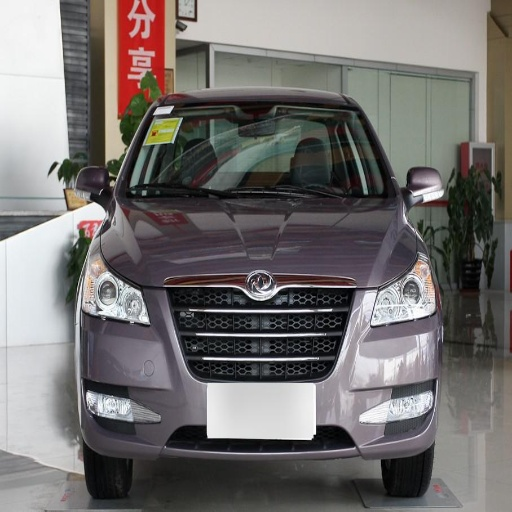front_bumper: (79, 271, 441, 465)
front_right_light: (82, 250, 150, 326)
hood: (101, 195, 418, 288)
left_mirror: (406, 166, 444, 206)
trunk: (208, 14, 289, 44)
